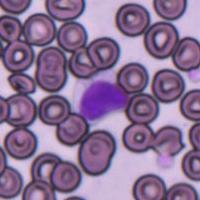L: (75, 76, 129, 123)
